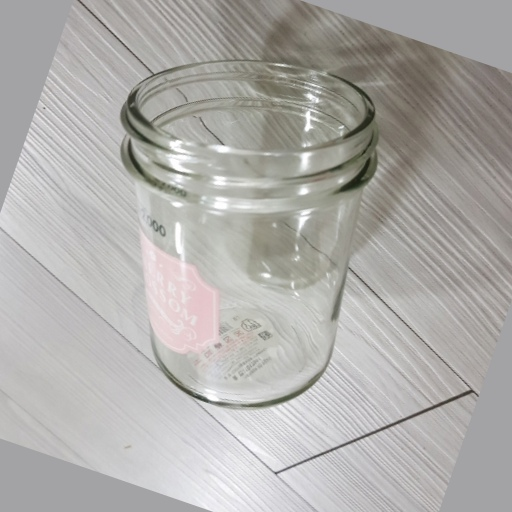Glass_5: (116, 58, 377, 408)
